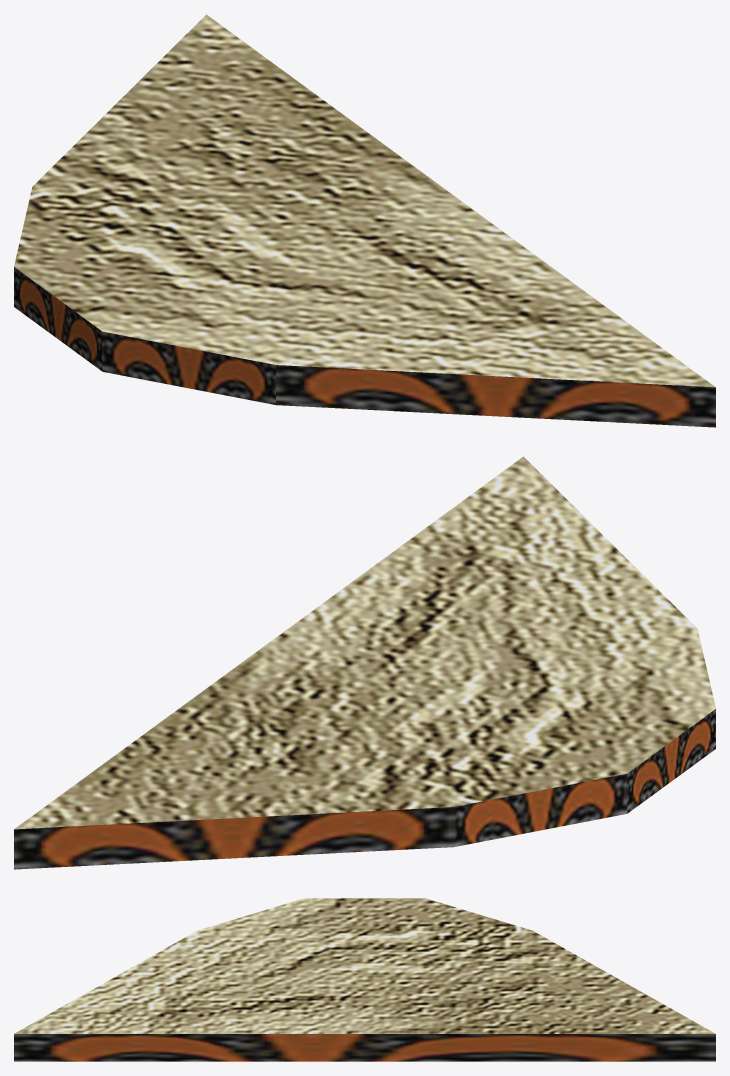
The model's file is SM_Ceiling.fbx.
3 views of the same model, one above another, from view 1: azimuth 30°, elevation 25°; view 2: azimuth 150°, elevation 25°; view 3: azimuth 270°, elevation 25° (orthographic). The views are drawn at different scales.
Visible parts, largest first — view 1: SM_Ceiling; view 2: SM_Ceiling; view 3: SM_Ceiling.
Boxes of the visible parts, <box> form: SM_Ceiling: <box>14,14,715,427</box>; SM_Ceiling: <box>14,456,715,869</box>; SM_Ceiling: <box>14,898,715,1061</box>.
Bounding box in the file's own units: 2100 × 200 × 4600.
